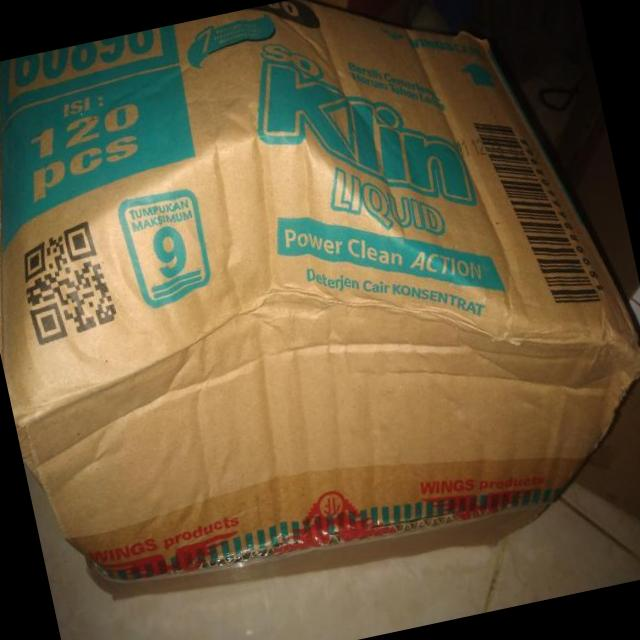box: (112, 65, 541, 575)
